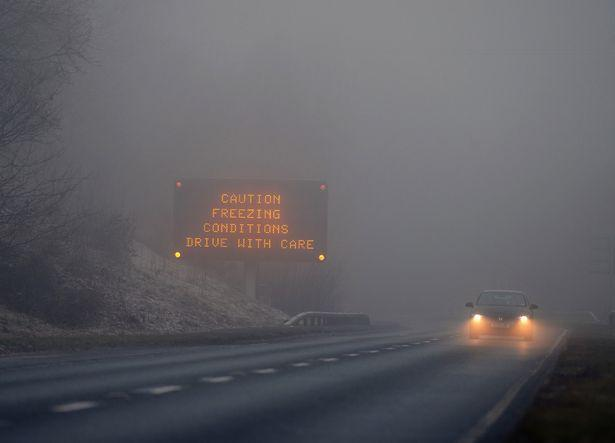car: (464, 288, 539, 342), (283, 312, 371, 339)
